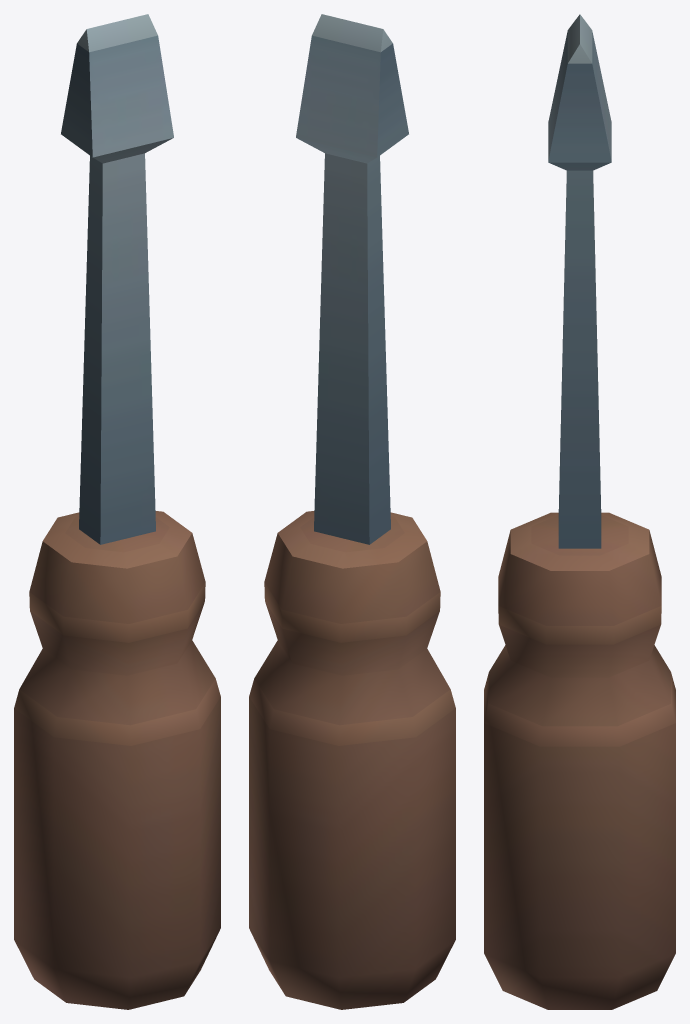
File: skruvmejsel.glb
The picture shows the model from 3 angles, left to right: view 1: azimuth 30°, elevation 25°; view 2: azimuth 150°, elevation 25°; view 3: azimuth 270°, elevation 25°; orthographic projection.
Parts seen in each view (by area): view 1: screwdriver_A_long; view 2: screwdriver_A_long; view 3: screwdriver_A_long.
Boxes of the visible parts, x1,y1,x2,y2 form: screwdriver_A_long: [14, 14, 220, 1009]; screwdriver_A_long: [249, 14, 455, 1009]; screwdriver_A_long: [484, 14, 675, 1009].
Size of the model in its own units: 0.1513 by 0.8434 by 0.1513.
Materials: 1 (1 with a texture image).
